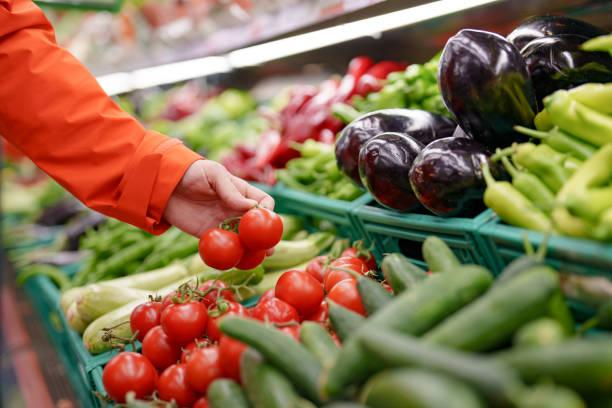article: (319, 265, 492, 396), (483, 161, 549, 231), (200, 228, 243, 268)
